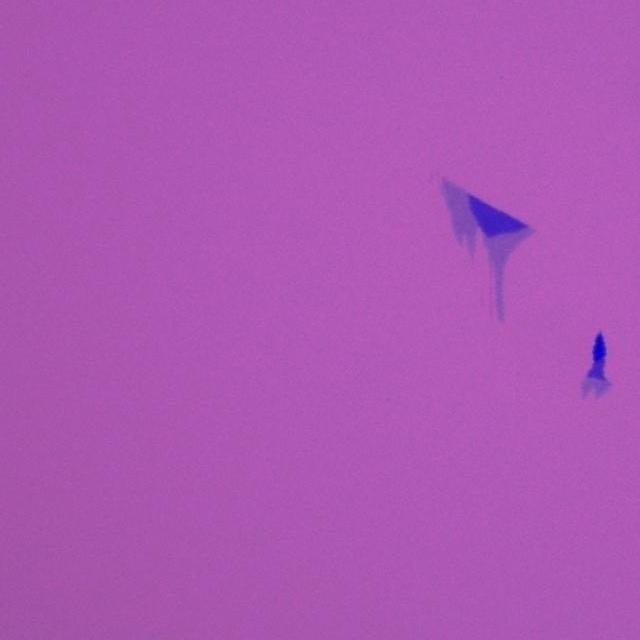monolayer-eWW4: (484, 226, 532, 322), (439, 177, 477, 250), (580, 375, 612, 401)
